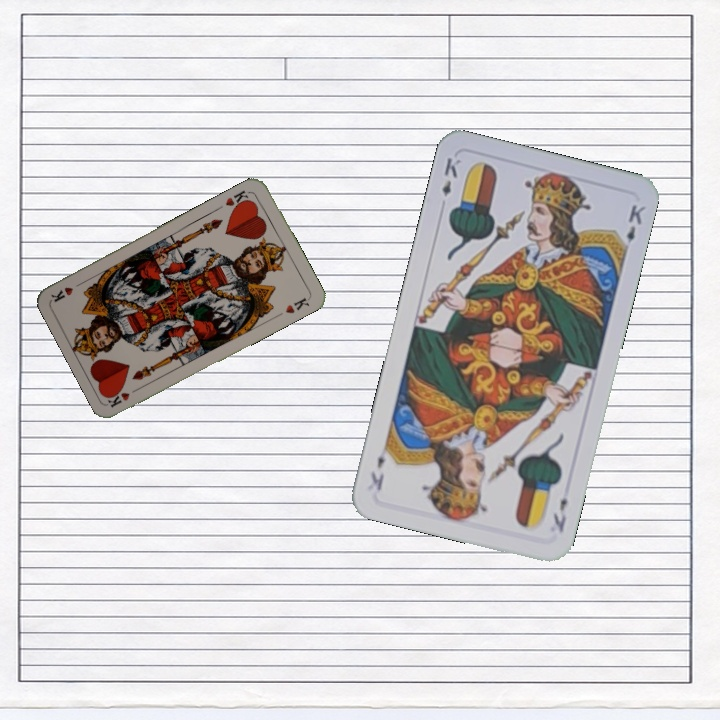EK: (438, 153, 463, 199), (549, 494, 570, 535)
HK: (104, 383, 144, 410), (221, 186, 253, 212)
